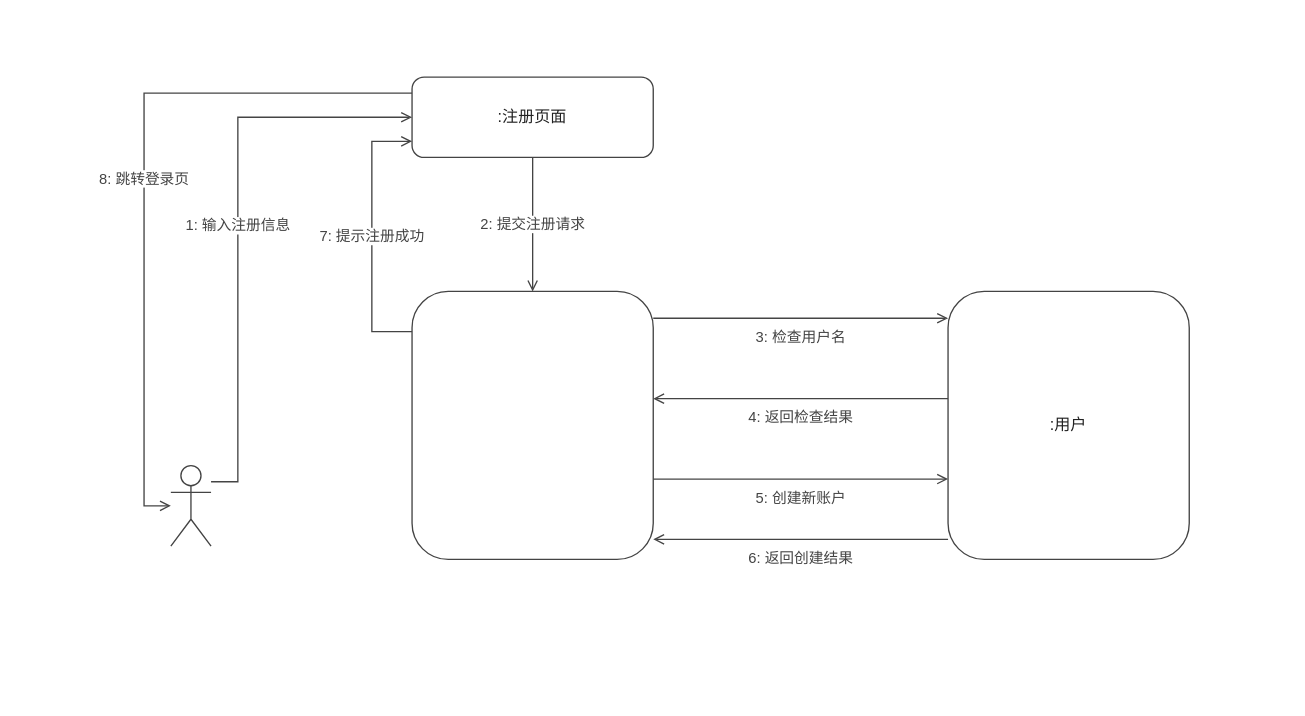
The diagram is 1305 pixels wide and 716 high, and some of its shapes have lost their labels. The centre of each missing label's shape, as x and y in pixels:
:注册控制器: point 532,424
用户: point 190,505
